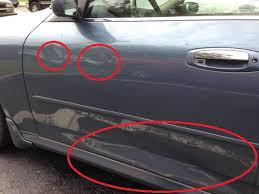RunningBoard-Dent: (108, 164, 215, 193)
doorouter-dent: (39, 22, 242, 158)
